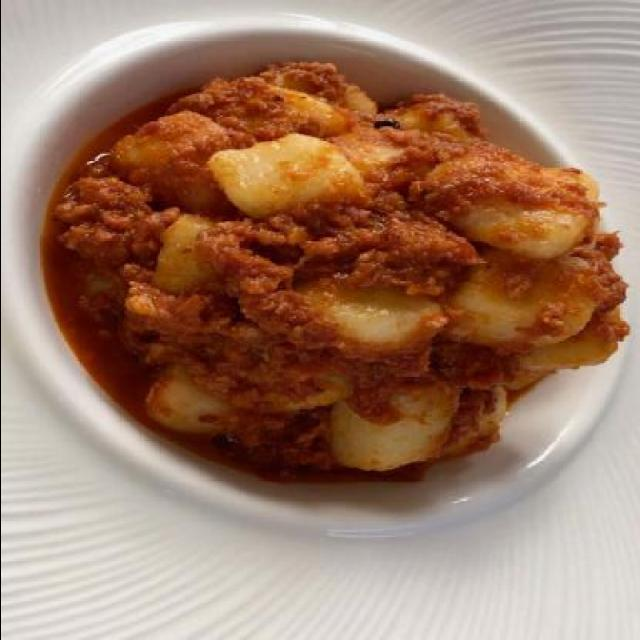Pasta al ragu: (67, 36, 625, 516)
